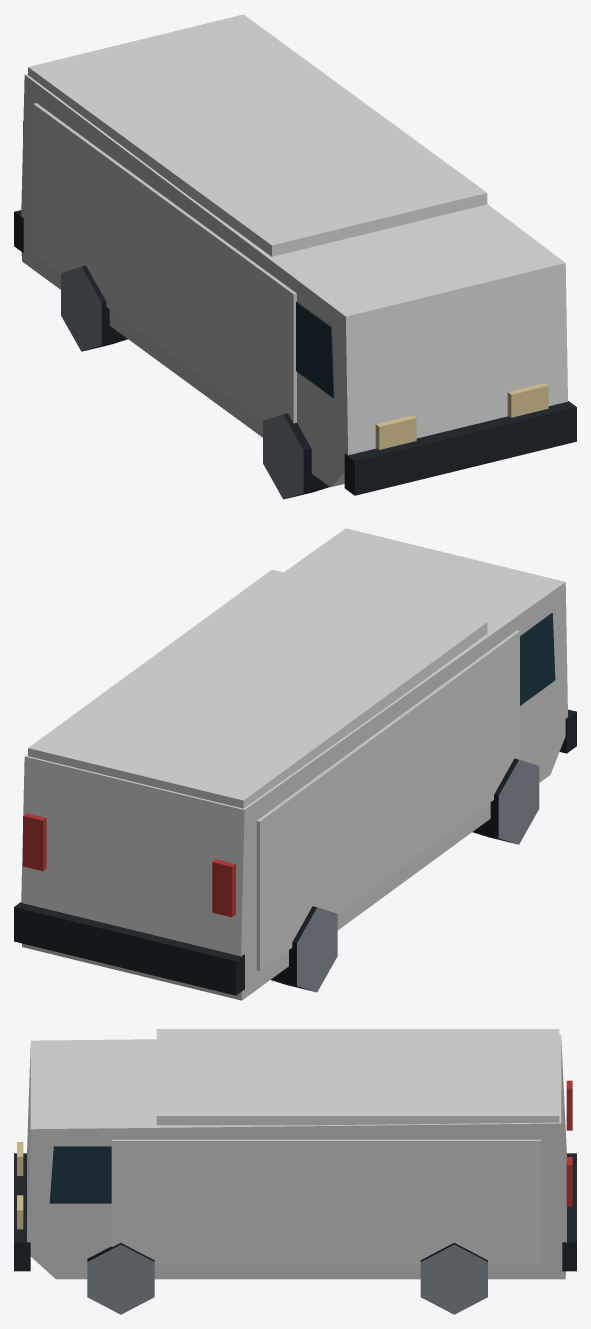
The model's file is car_van_lod1.glb.
3 views of the same model, one above another, from view 1: azimuth 30°, elevation 25°; view 2: azimuth 150°, elevation 25°; view 3: azimuth 270°, elevation 25° (orthographic). The views are drawn at different scales.
Parts seen in each view (by area): view 1: paint, trim; view 2: paint, trim; view 3: paint, trim.
Part boxes in pixels (bbox=[...]): paint: bbox=[21, 14, 567, 487]; trim: bbox=[14, 121, 576, 499]; paint: bbox=[21, 528, 567, 1000]; trim: bbox=[14, 613, 576, 995]; paint: bbox=[27, 1029, 566, 1279]; trim: bbox=[14, 1080, 576, 1314].
Size of the model in its own units: 2.14 by 2.05 by 5.37.
